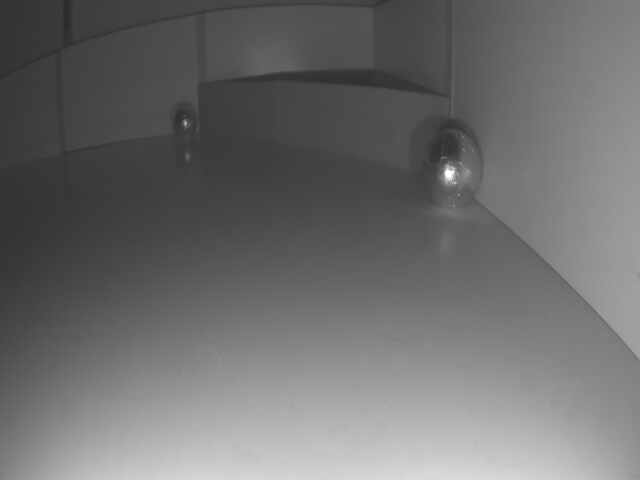Live: (420, 127, 485, 210), (165, 100, 197, 140)
Point: (199, 80, 448, 175)
